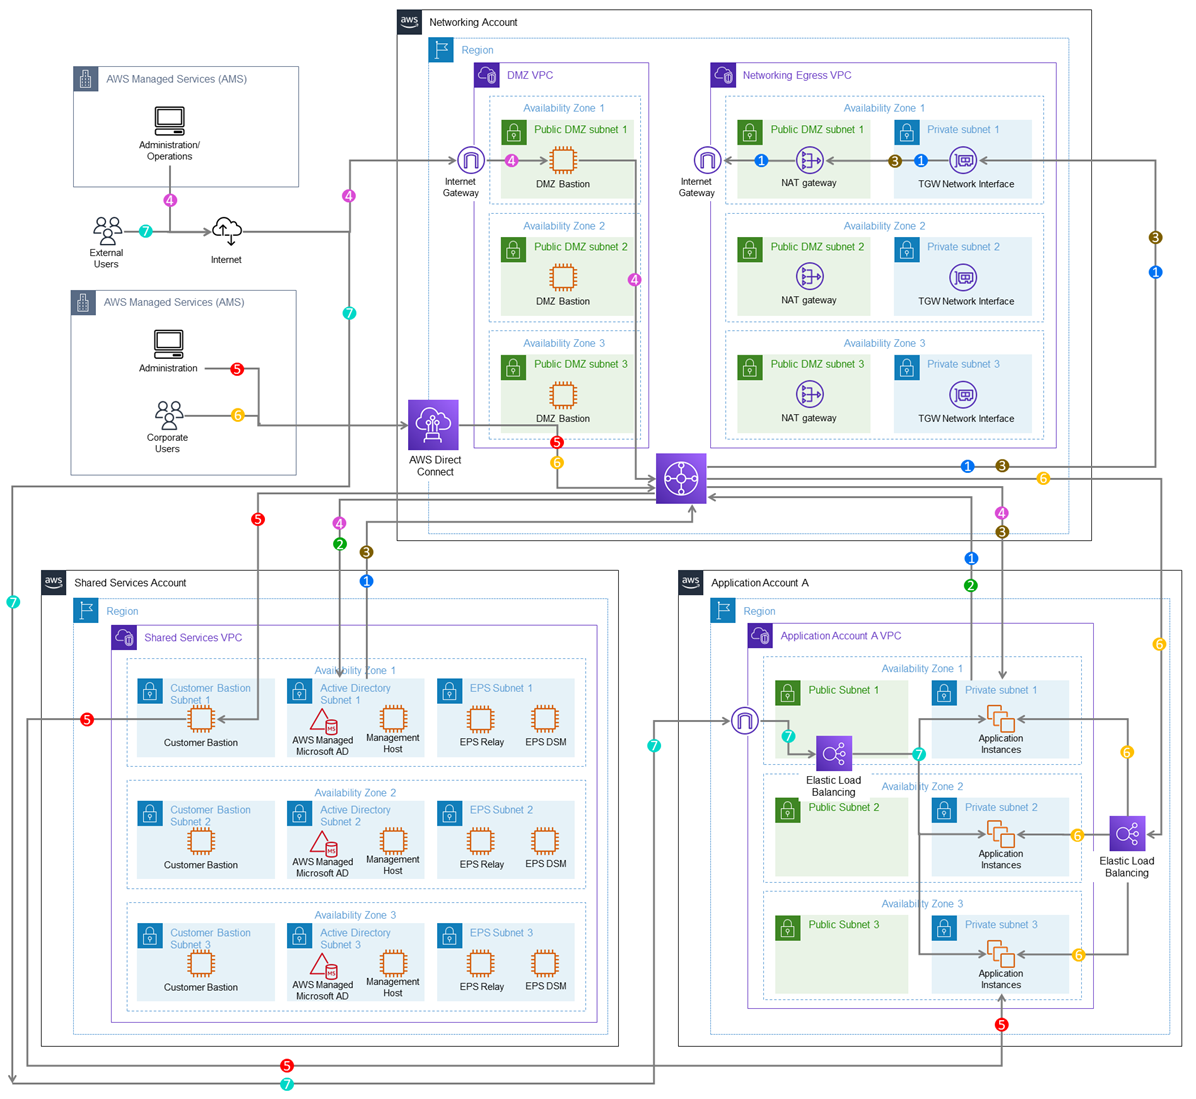direct connect: (409, 400, 458, 450)
ec2: (522, 939, 566, 983), (980, 694, 1022, 738), (543, 374, 583, 415), (977, 932, 1019, 972), (543, 258, 583, 295), (374, 943, 412, 981), (463, 943, 499, 981), (545, 141, 581, 179), (179, 946, 219, 981), (982, 816, 1022, 851), (374, 821, 409, 858), (463, 701, 499, 735), (374, 702, 412, 735), (529, 823, 565, 857), (529, 701, 562, 738), (465, 823, 497, 858), (184, 702, 218, 735), (186, 821, 218, 855)
elb: (814, 735, 852, 771), (1111, 818, 1145, 851)
transit gateway: (655, 455, 703, 503)
vpc: (110, 625, 141, 650), (711, 66, 736, 89), (749, 623, 772, 646), (477, 65, 500, 86)
